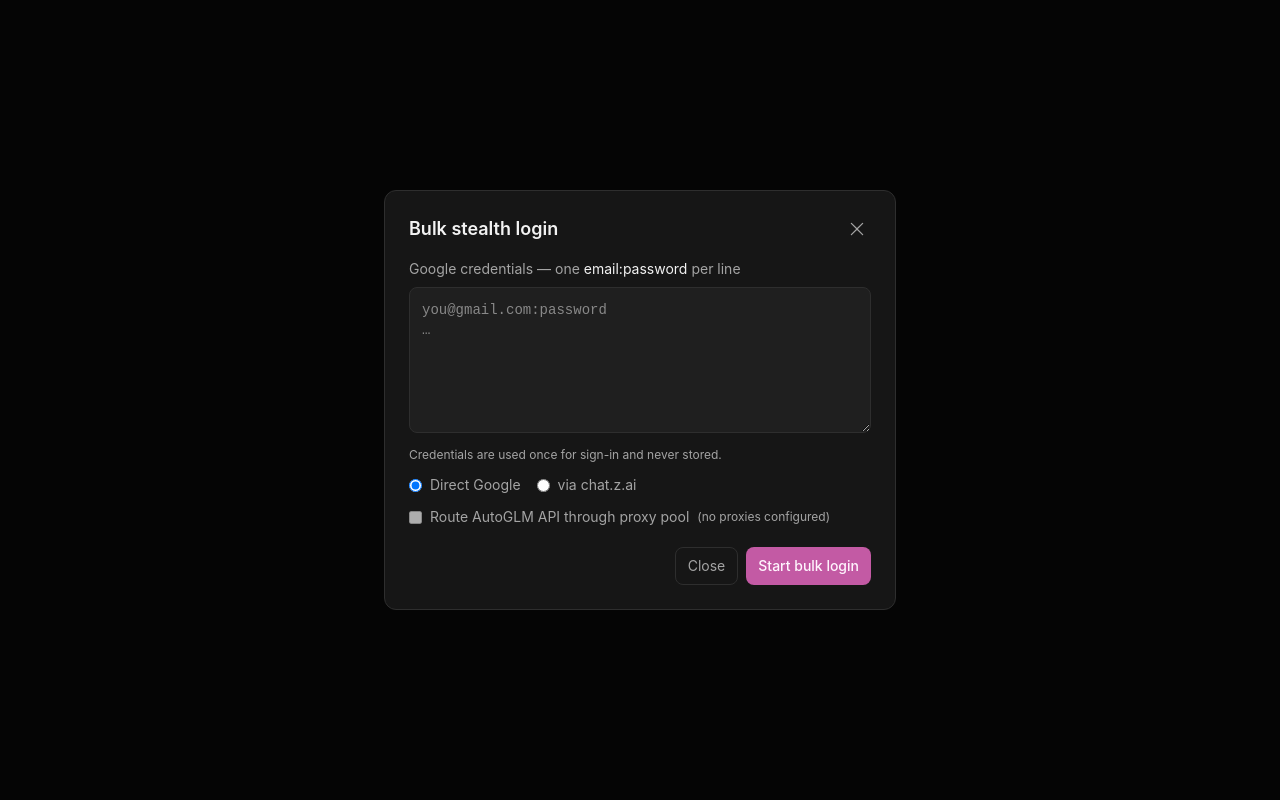
Scenario: surfaces a helpful hint when auto-login is not configured
Type "a@x.com:pw" into the text box labelled "Google credentials — one email:password per line" at x=640, y=360, box [409, 287, 871, 433]
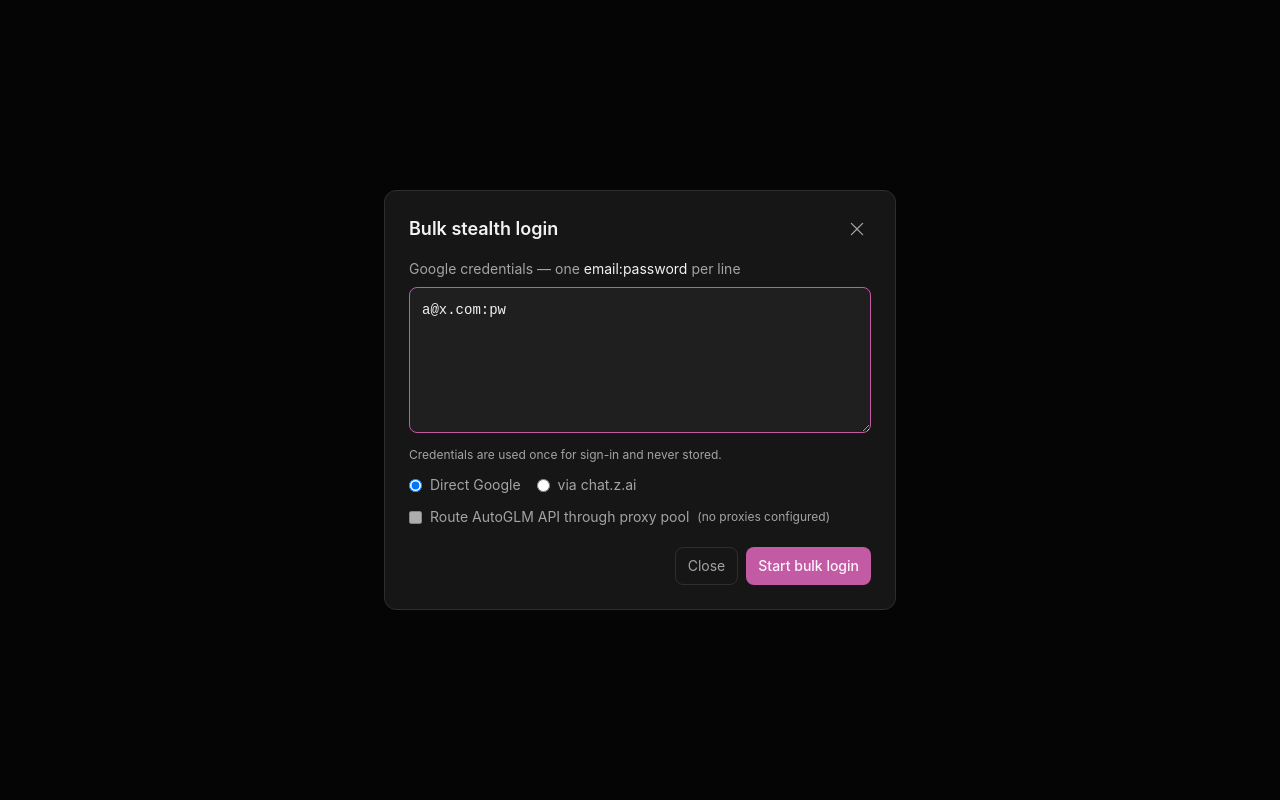
Click the button "Start bulk login" at x=809, y=566, box [746, 547, 871, 585]
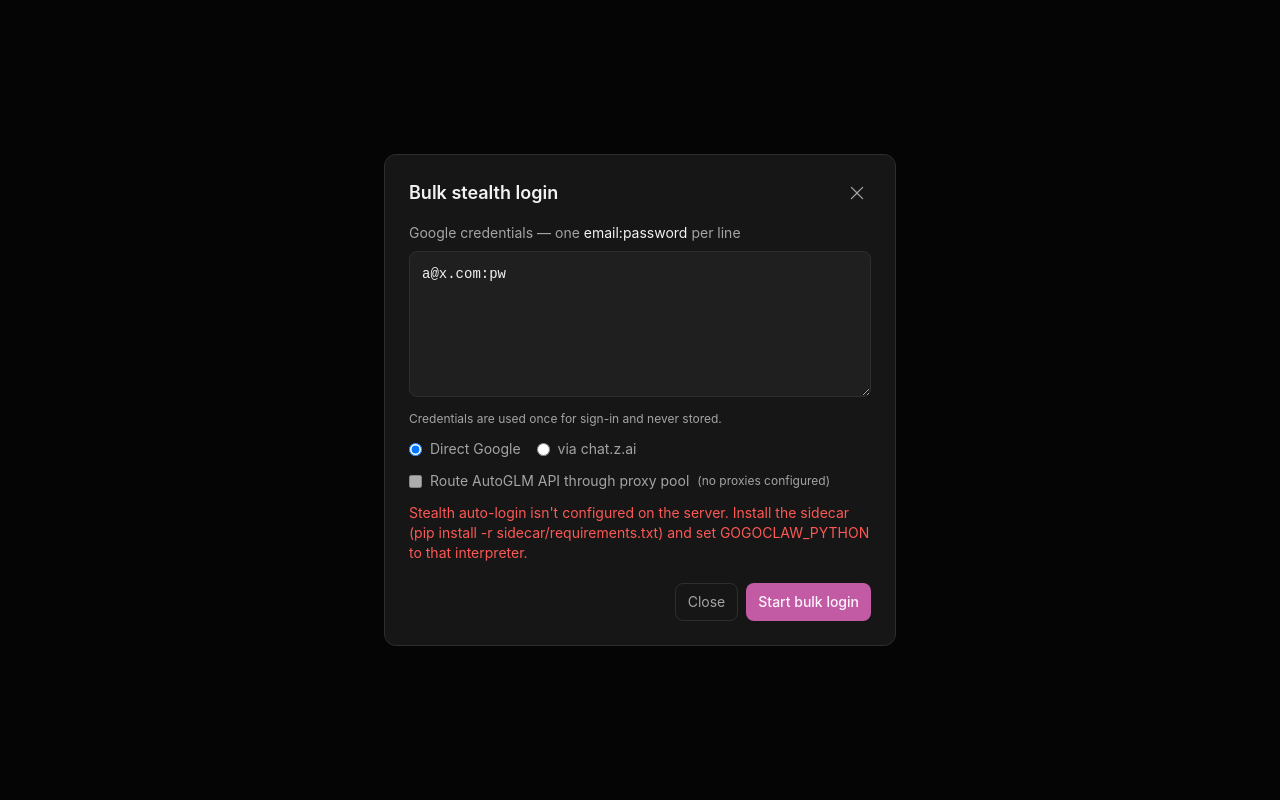
Expected: the text "GOGOCLAW_PYTHON" is shown, [409, 504, 869, 561]
